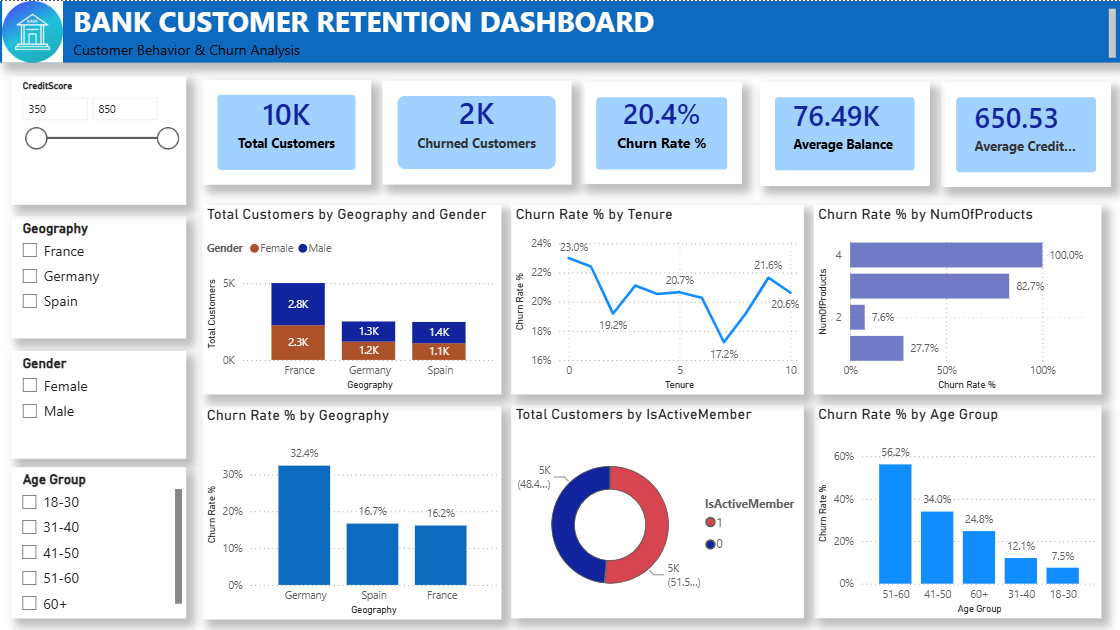

This screenshot's page, from the dashboard's own definition file:
{"tool":"powerbi","page":{"name":"Executive Overview ","canvas":[1280,720],"ordinal":0},"visuals":[{"type":"cardVisual","fields":{"Data":["Customer_Churn.Average Balance"]},"box":[868.6,92.9,194.3,118.6],"z":0},{"type":"cardVisual","fields":{"Data":["Customer_Churn.Total Customers"]},"box":[231.4,90,192.9,120],"z":1000},{"type":"cardVisual","fields":{"Data":["Customer_Churn.Churned Customers"]},"box":[437.1,91.4,215.7,118.6],"z":2000},{"type":"cardVisual","fields":{"Data":["Customer_Churn.Churn Rate %"]},"box":[664.3,92.9,184.3,117.1],"z":3000},{"type":"cardVisual","fields":{"Data":["Customer_Churn.Average Credit Score"]},"box":[1075.7,92.9,194.3,120],"z":4000},{"type":"clusteredColumnChart","fields":{"Category":["Customer_Churn.Geography"],"Y":["Customer_Churn.Churn Rate %"]},"box":[231.4,462.9,341.4,244.3],"z":5000},{"type":"clusteredColumnChart","fields":{"Y":["Customer_Churn.Churn Rate %"],"Category":["Customer_Churn.Age Group"]},"box":[930,461.4,328.6,244.3],"z":6000},{"type":"donutChart","fields":{"Category":["Customer_Churn.IsActiveMember"],"Y":["Customer_Churn.Total Customers"]},"box":[584.3,461.4,334.3,244.3],"z":7000},{"type":"slicer","fields":{"Values":["Customer_Churn.Geography"]},"box":[12.9,245.7,200,140],"z":8000},{"type":"slicer","fields":{"Values":["Customer_Churn.Gender"]},"box":[12.9,400,200,122.9],"z":9000},{"type":"slicer","fields":{"Values":["Customer_Churn.Age Group"]},"box":[12.9,532.9,200,172.9],"z":10000},{"type":"columnChart","fields":{"Category":["Customer_Churn.Geography"],"Series":["Customer_Churn.Gender"],"Y":["Customer_Churn.Total Customers"]},"box":[231.4,232.9,341.4,217.1],"z":11000},{"type":"lineChart","fields":{"Y":["Customer_Churn.Churn Rate %"],"Category":["Customer_Churn.Tenure"]},"box":[584.3,232.9,334.3,217.1],"z":12000},{"type":"clusteredBarChart","fields":{"Category":["Customer_Churn.NumOfProducts"],"Y":["Customer_Churn.Churn Rate %"]},"box":[930,232.9,328.6,217.1],"z":13000},{"type":"slicer","fields":{"Values":["Customer_Churn.CreditScore"]},"box":[12.9,85.7,200,147.1],"z":14000},{"type":"textbox","box":[0,0,1280,70],"z":15000},{"type":"image","box":[0,0,74.3,70],"z":16000}]}

Visuals, with their boxes in screenshot pixels (x1, y1, x2, y2), scaled from the page's 1280x720 canvas onto the 1120x630 screenshot:
cardVisual - Customer_Churn.Average Balance: (left=760, top=81, right=930, bottom=185)
cardVisual - Customer_Churn.Total Customers: (left=202, top=79, right=371, bottom=184)
cardVisual - Customer_Churn.Churned Customers: (left=382, top=80, right=571, bottom=184)
cardVisual - Customer_Churn.Churn Rate %: (left=581, top=81, right=743, bottom=184)
cardVisual - Customer_Churn.Average Credit Score: (left=941, top=81, right=1111, bottom=186)
clusteredColumnChart - Customer_Churn.Geography x Customer_Churn.Churn Rate %: (left=202, top=405, right=501, bottom=619)
clusteredColumnChart - Customer_Churn.Churn Rate % x Customer_Churn.Age Group: (left=814, top=404, right=1101, bottom=617)
donutChart - Customer_Churn.IsActiveMember x Customer_Churn.Total Customers: (left=511, top=404, right=804, bottom=617)
slicer - Customer_Churn.Geography: (left=11, top=215, right=186, bottom=337)
slicer - Customer_Churn.Gender: (left=11, top=350, right=186, bottom=458)
slicer - Customer_Churn.Age Group: (left=11, top=466, right=186, bottom=618)
columnChart - Customer_Churn.Geography x Customer_Churn.Gender: (left=202, top=204, right=501, bottom=394)
lineChart - Customer_Churn.Churn Rate % x Customer_Churn.Tenure: (left=511, top=204, right=804, bottom=394)
clusteredBarChart - Customer_Churn.NumOfProducts x Customer_Churn.Churn Rate %: (left=814, top=204, right=1101, bottom=394)
slicer - Customer_Churn.CreditScore: (left=11, top=75, right=186, bottom=204)
textbox: (left=0, top=0, right=1119, bottom=61)
image: (left=0, top=0, right=65, bottom=61)
